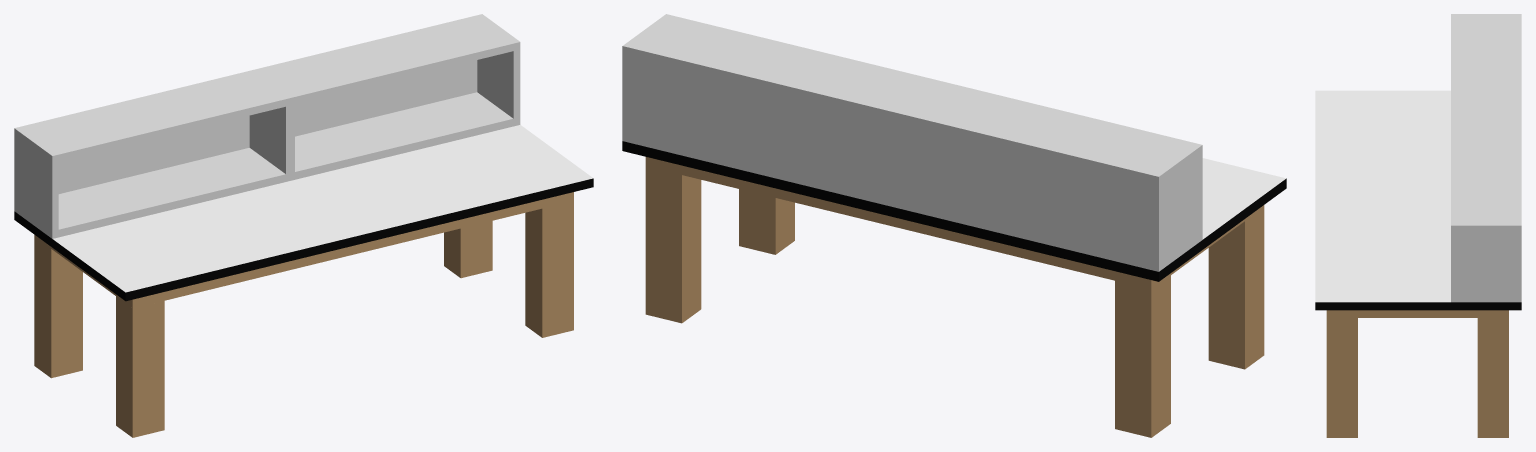
Rendered from table.fbx.
The picture shows the model from 3 angles, left to right: view 1: azimuth 30°, elevation 25°; view 2: azimuth 150°, elevation 25°; view 3: azimuth 270°, elevation 25°; orthographic projection. The views are drawn at different scales.
Visible parts, largest first — view 1: Cube.005, Cube, FLleg, FRleg, BLleg, BRleg; view 2: Cube.005, Cube, BLleg, BRleg, FLleg, FRleg; view 3: Cube, Cube.005, FRleg, BRleg.
Part boxes in pixels (left/top/right/bottom): Cube.005: left=14, top=14, right=520, bottom=238; Cube: left=14, top=125, right=593, bottom=308; FLleg: left=116, top=296, right=164, bottom=437; FRleg: left=525, top=201, right=573, bottom=337; BLleg: left=34, top=236, right=82, bottom=378; BRleg: left=444, top=221, right=492, bottom=278; Cube.005: left=622, top=14, right=1202, bottom=271; Cube: left=622, top=141, right=1286, bottom=289; BLleg: left=1115, top=275, right=1170, bottom=437; BRleg: left=645, top=166, right=701, bottom=323; FLleg: left=1208, top=207, right=1264, bottom=369; FRleg: left=739, top=189, right=794, bottom=254; Cube: left=1315, top=90, right=1521, bottom=317; Cube.005: left=1451, top=14, right=1521, bottom=302; FRleg: left=1326, top=318, right=1357, bottom=437; BRleg: left=1477, top=318, right=1508, bottom=437.
Size of the model in its own units: 600 by 289 by 247.
